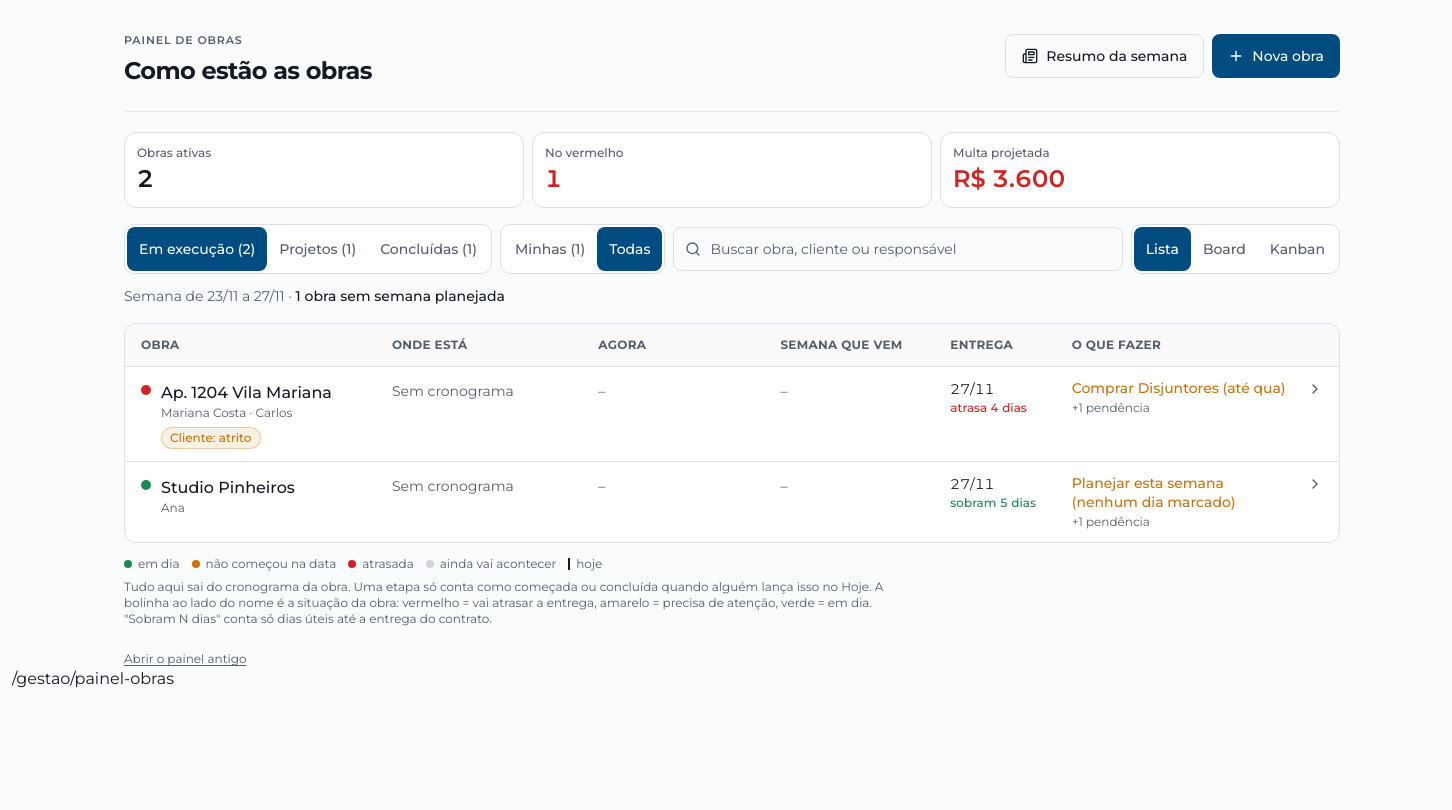
Scenario: Painel de Obras reformulado › escritório › busca filtra a lista sem mexer nos números do topo
The image size is (1452, 810).
In the search field: (898, 248) [674,226,1123,270], type "pinheiros"
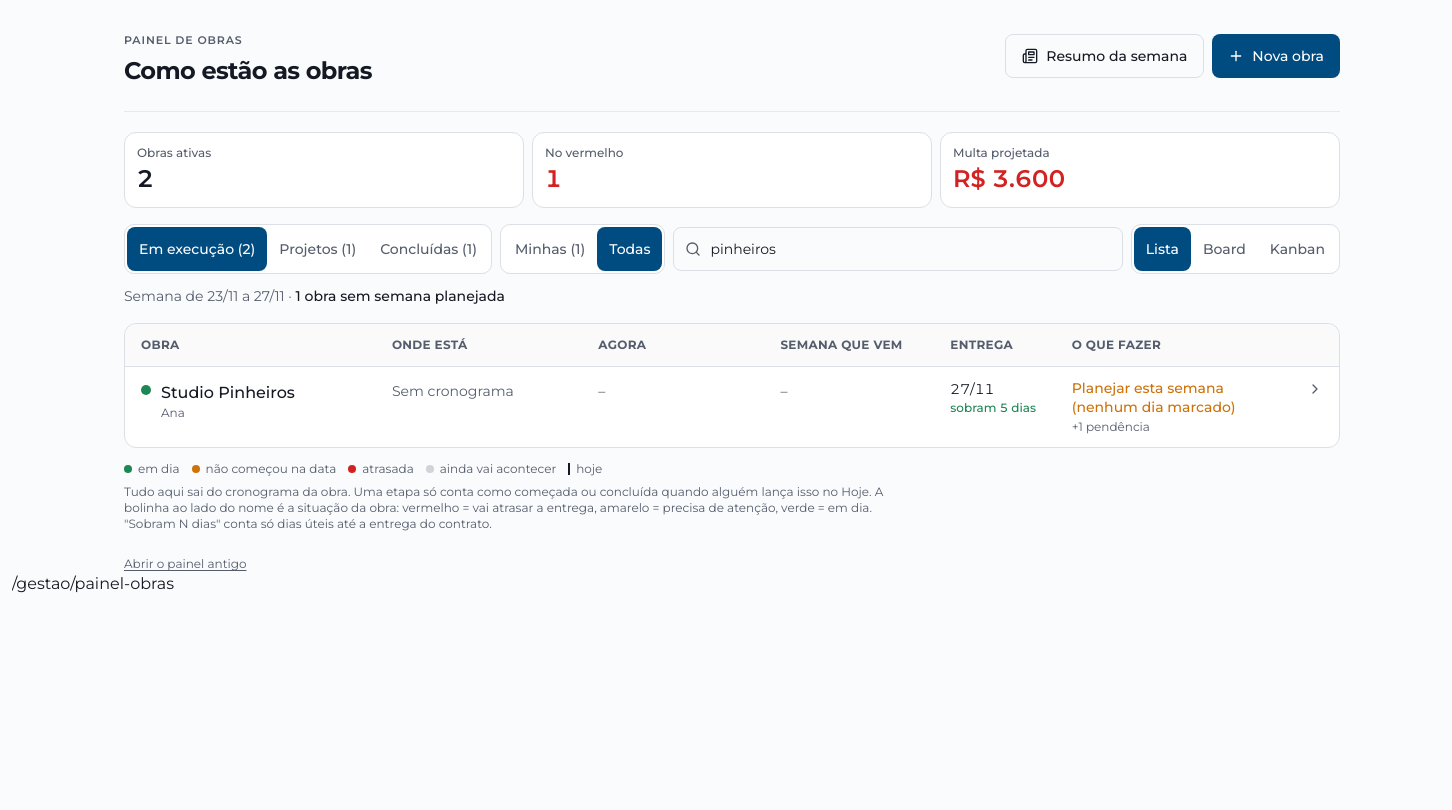
Check: the row "Studio Pinheiros" is shown, box [125,366,1339,447]
Check: the button "Ap. 1204" is gone
Replace the text in the search field with "zzz": (898, 248) [674,226,1123,270]
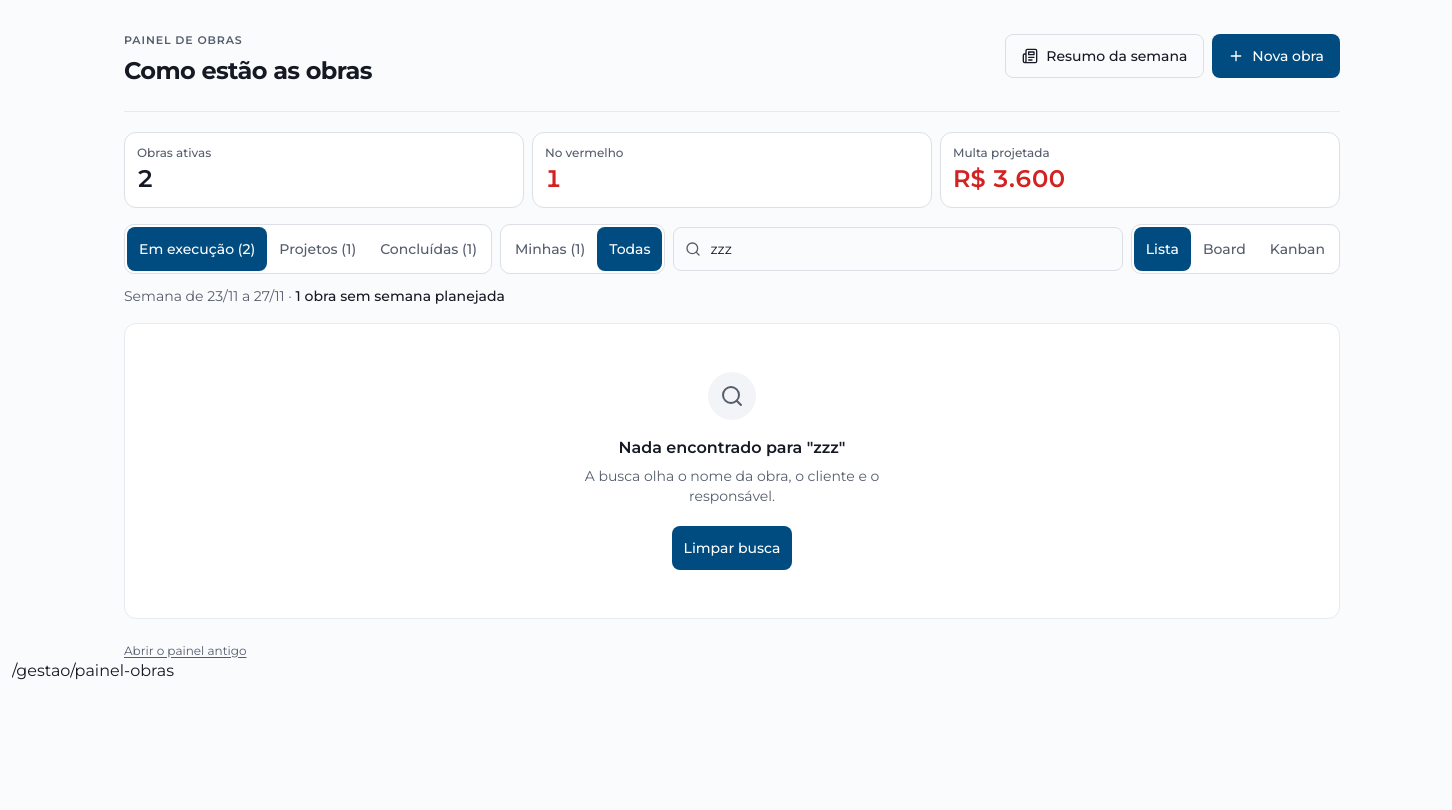
Check: the heading "Nada encontrado para \"zzz\"" is shown, box [618,436,846,460]
Click the button "Limpar busca": (732, 548) [672,526,792,570]
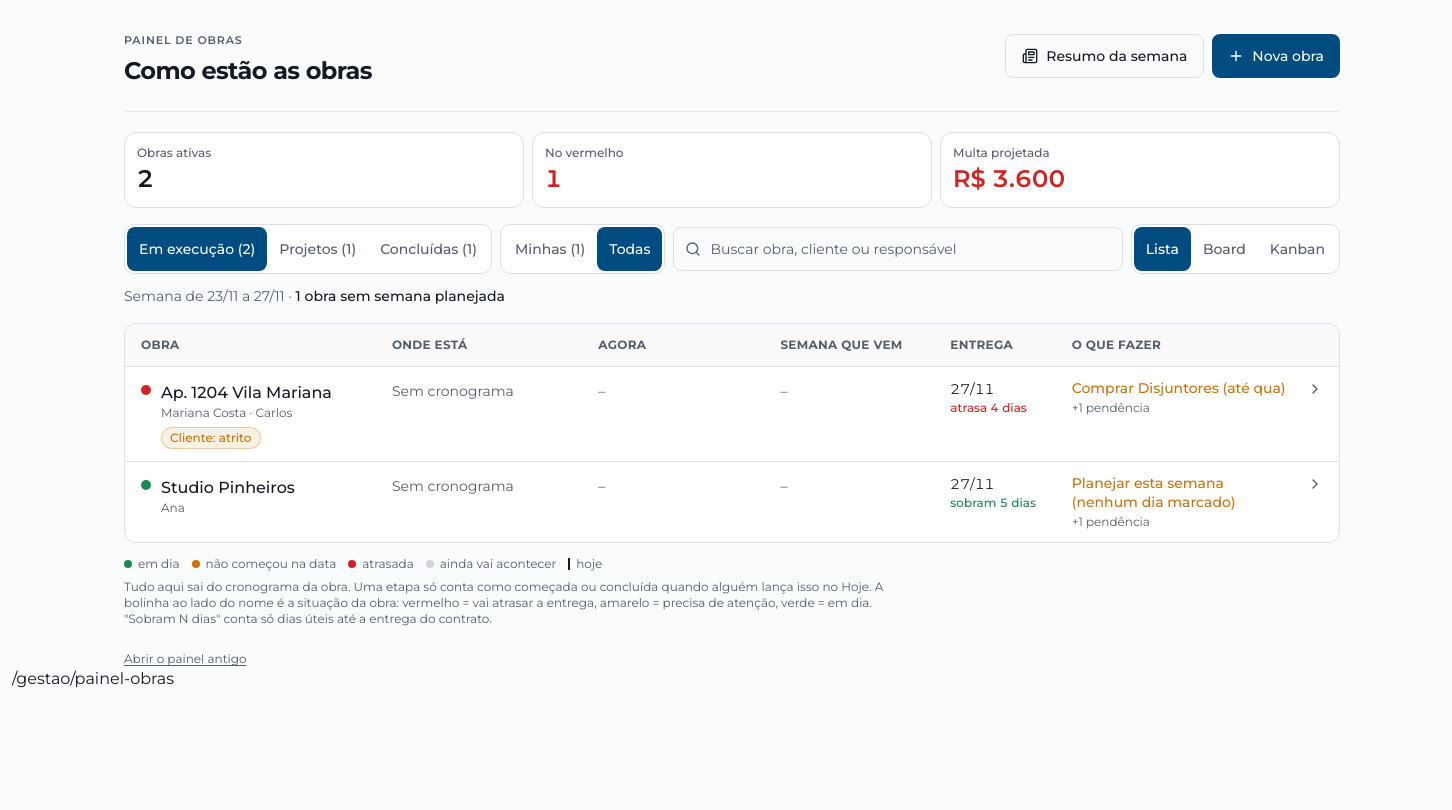
Check: the row "Ap. 1204" is shown, box [125,366,1339,461]
